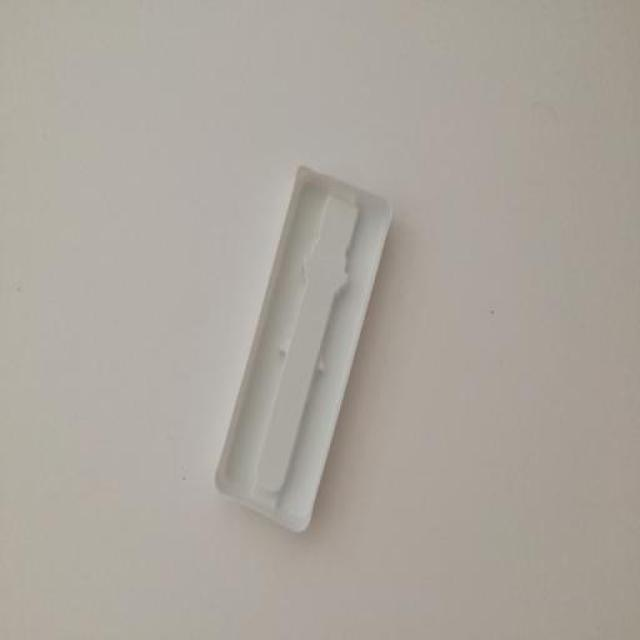Plastic: (214, 163, 394, 532)
